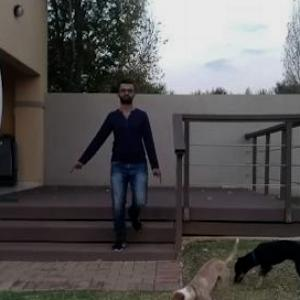land: (81, 86, 168, 247)
